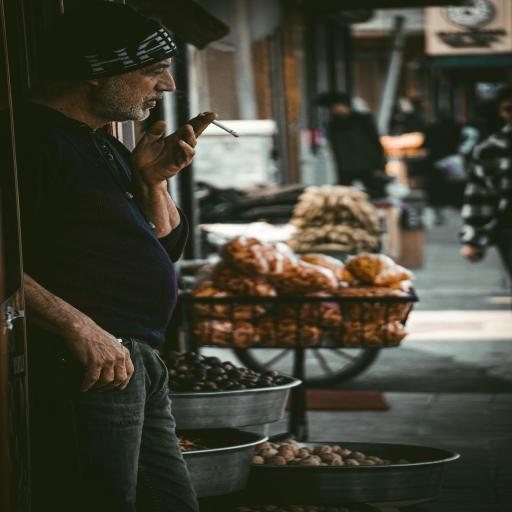terdeteksi pegang rokok: (147, 86, 254, 188)
